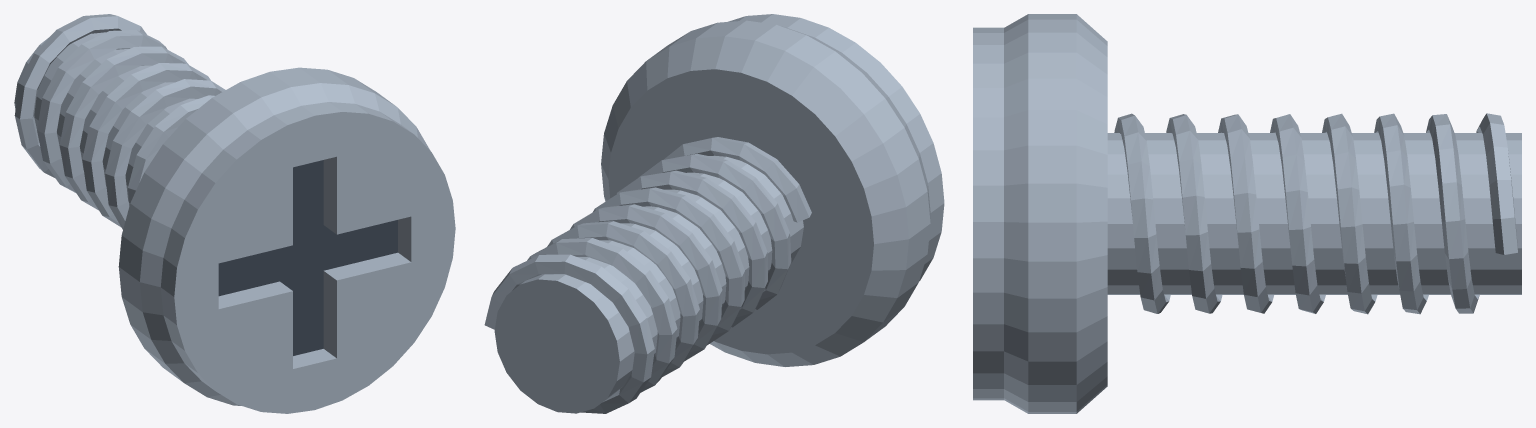
The model's file is short_screw.obj.
3 views of the same model, side by side, from view 1: azimuth 30°, elevation 25°; view 2: azimuth 150°, elevation 25°; view 3: azimuth 270°, elevation 25° (orthographic). The views are drawn at different scales.
Parts seen in each view (by area): view 1: short_screw; view 2: short_screw; view 3: short_screw.
Part boxes in pixels (x1,y1,x2,y2): short_screw: (14, 14, 455, 413); short_screw: (484, 14, 944, 413); short_screw: (973, 14, 1521, 413).
Size of the model in its own units: 1.46 by 1.46 by 2.
